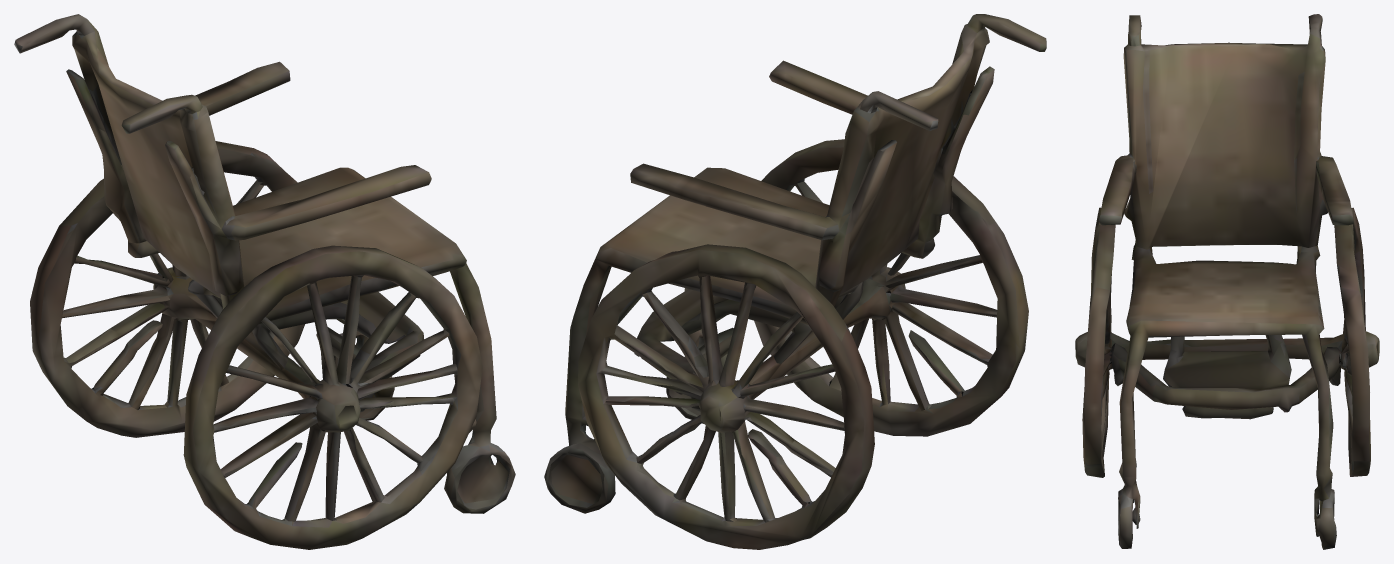
The model's file is plain-wood-wheelchair-v002.glb.
The picture shows the model from 3 angles, left to right: view 1: azimuth 30°, elevation 25°; view 2: azimuth 150°, elevation 25°; view 3: azimuth 270°, elevation 25°; orthographic projection. The views are drawn at different scales.
Visible parts, largest first — view 1: plain-wood-wheelchair; view 2: plain-wood-wheelchair; view 3: plain-wood-wheelchair.
Boxes of the visible parts, x1,y1,x2,y2 form: plain-wood-wheelchair: (14, 14, 515, 549); plain-wood-wheelchair: (544, 14, 1046, 549); plain-wood-wheelchair: (1075, 14, 1379, 549).
Size of the model in its own units: 0.7542 by 0.9065 by 0.6232.
Materials: 1 (1 with a texture image).
